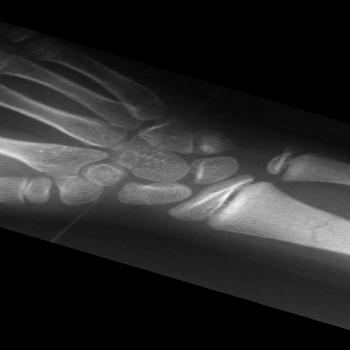Fracture: (293, 207, 348, 254)
